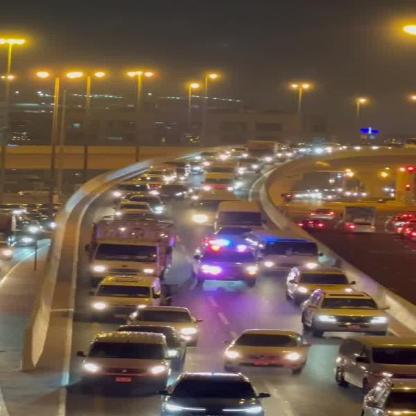priority: (191, 234, 263, 288)
